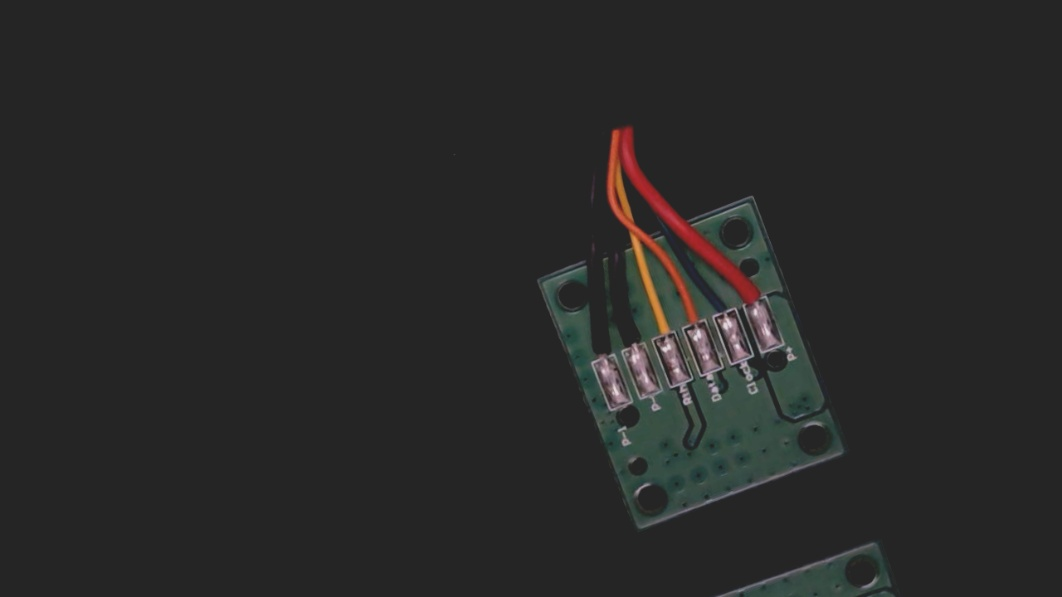Black: (607, 305, 651, 367)
Black1: (575, 314, 619, 376)
Green: (699, 275, 740, 331)
Orange: (671, 286, 711, 344)
Red: (728, 259, 770, 319)
Yellow: (638, 295, 681, 356)
